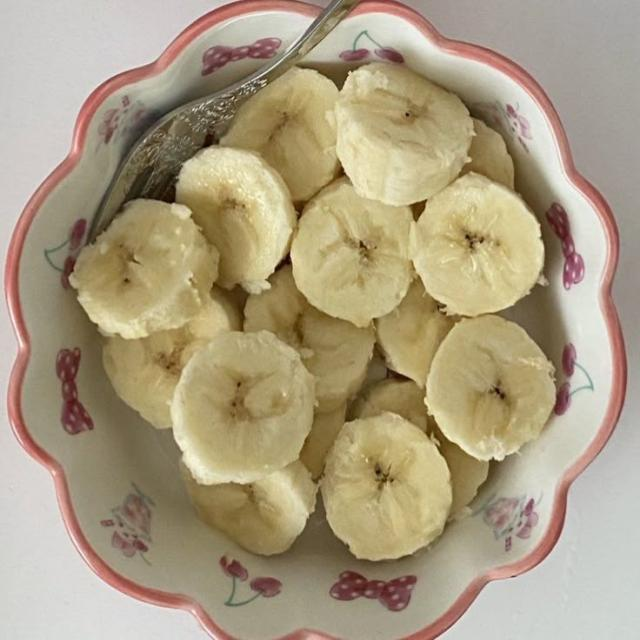banana slice: (172, 332, 314, 484), (70, 199, 218, 338), (334, 63, 473, 205), (103, 286, 241, 428), (321, 413, 452, 560), (350, 380, 488, 518), (412, 173, 544, 316), (245, 266, 374, 411), (427, 316, 555, 460), (291, 178, 414, 327), (176, 147, 296, 292), (220, 68, 339, 202), (182, 461, 317, 554), (375, 279, 453, 387), (433, 428, 489, 519), (349, 379, 434, 433), (462, 119, 514, 188), (300, 405, 346, 479)
